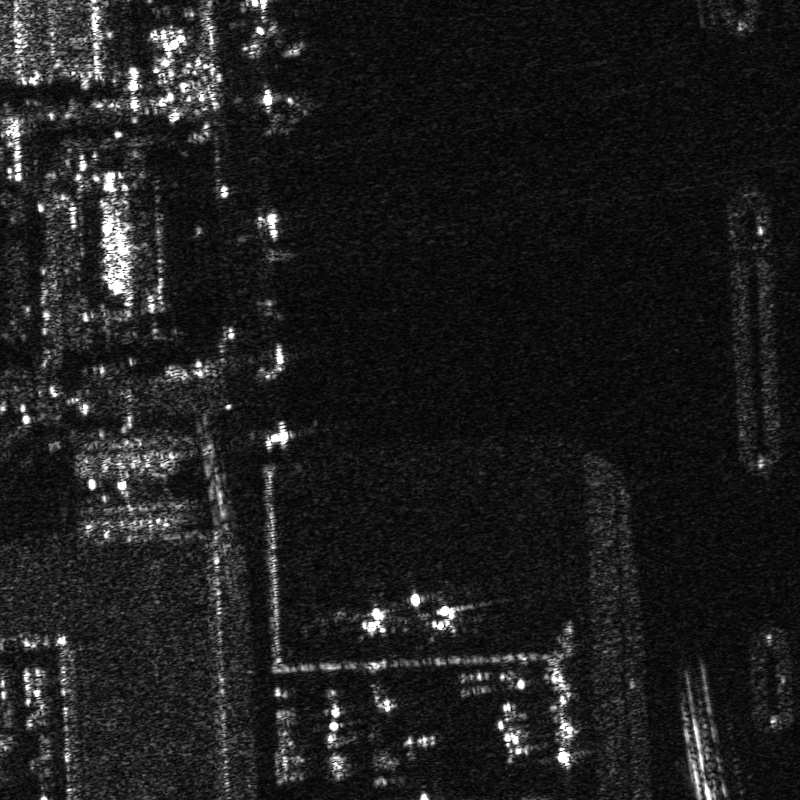ARJ21: (346, 587, 413, 648)
other: (418, 584, 514, 632)
